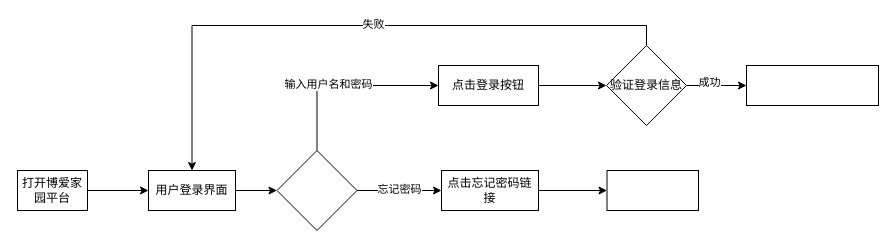
This 896x248 diagram has some shape labels left out. The box of each missing label's shape, as (x1, y1, x2, y2) in pixels:
密码修改流程: (606, 170, 698, 210)
用户选择: (276, 150, 357, 230)
跳转至我的工作台界面: (746, 64, 878, 106)
